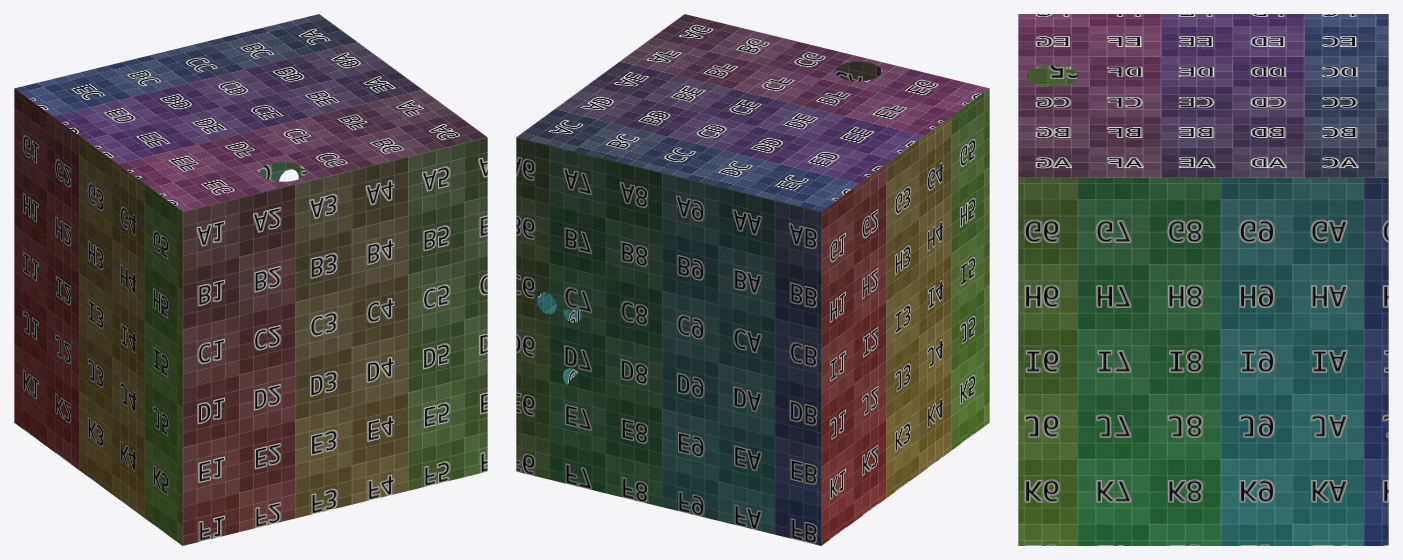
Rendered from Hell.fbx.
3 renders of one model, left to right at view 1: azimuth 30°, elevation 25°; view 2: azimuth 150°, elevation 25°; view 3: azimuth 270°, elevation 25°, orthographic. The views are drawn at different scales.
Parts seen in each view (by area): view 1: hell; view 2: hell; view 3: hell.
Boxes of the visible parts, x1=… form: hell: x1=14, y1=14, x2=487, y2=545; hell: x1=516, y1=14, x2=989, y2=545; hell: x1=1018, y1=14, x2=1388, y2=545.
Bounding box in the file's own units: 24.38 × 25.54 × 23.3.
